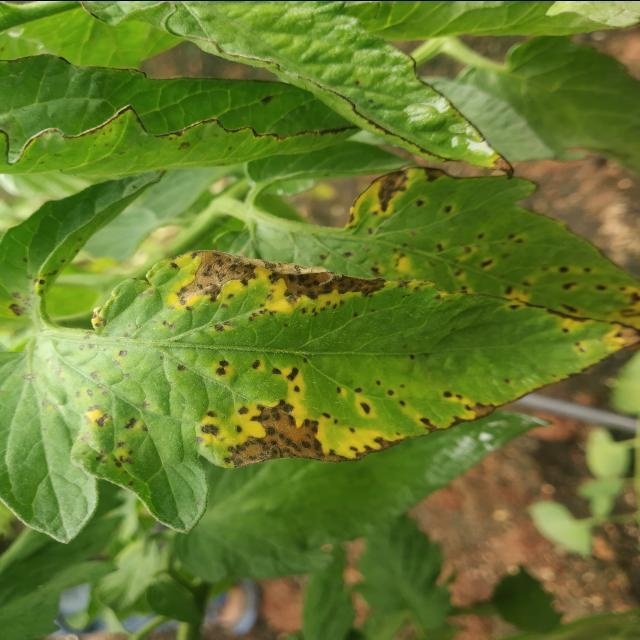Tomato mosaic virus leaf: (68, 244, 640, 512), (0, 53, 366, 175), (0, 170, 160, 322)
